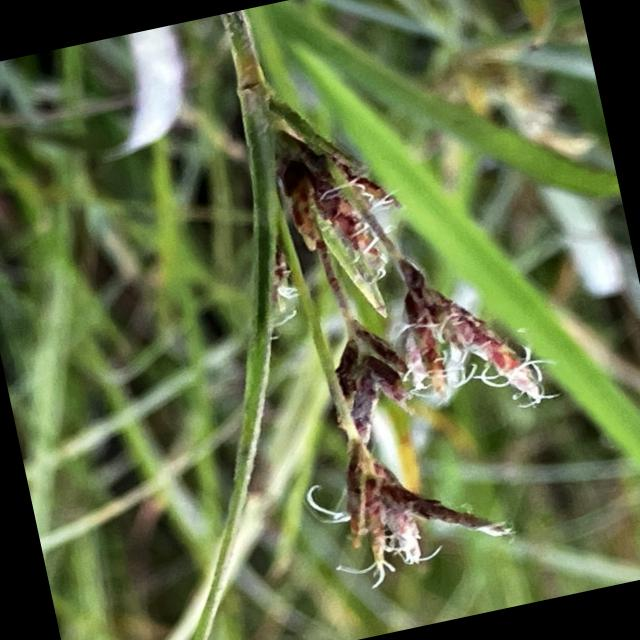cyperus: (203, 49, 592, 602)
